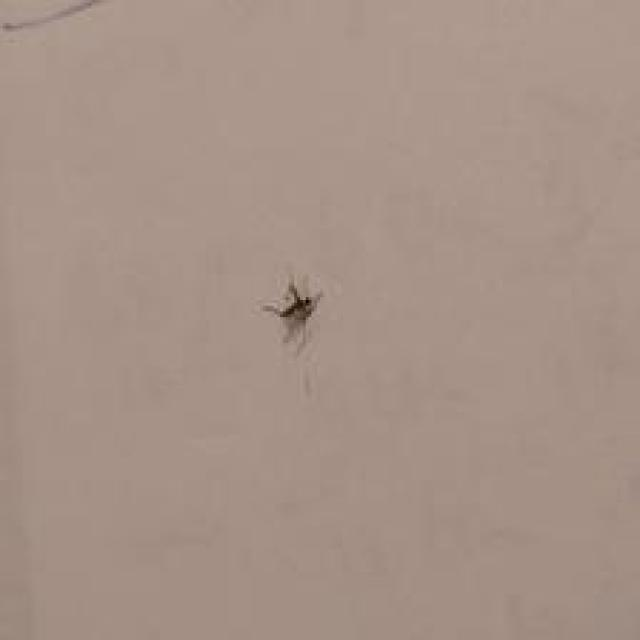Culex: (262, 273, 324, 347)
